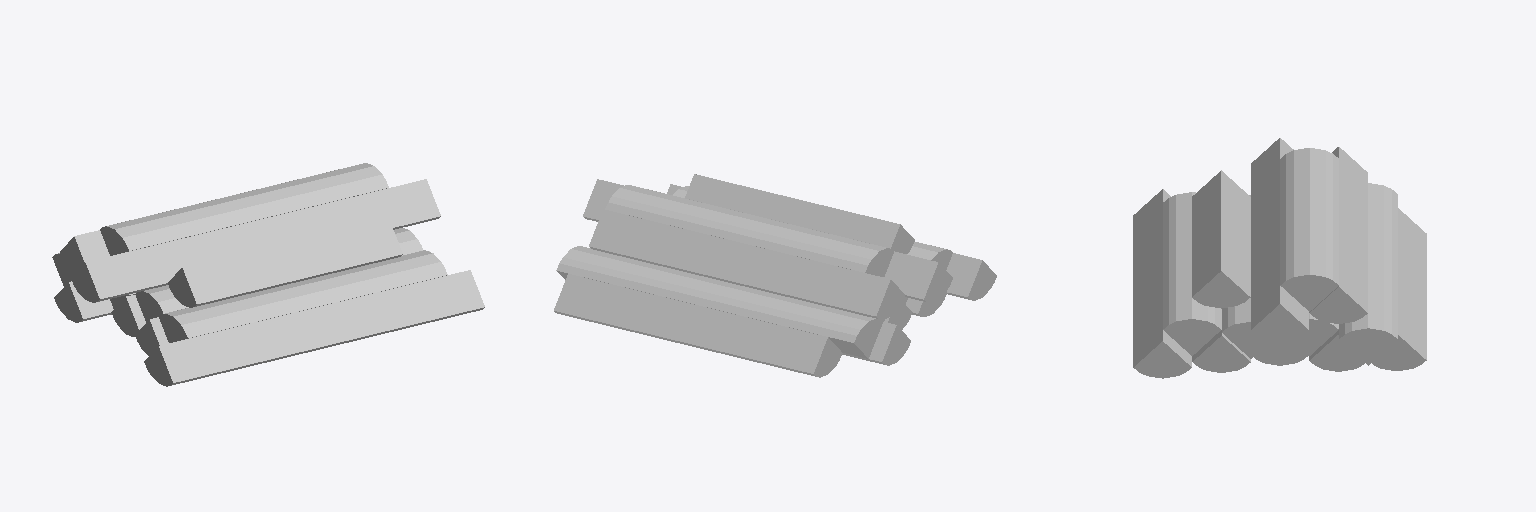
File: Logs.obj
3 renders of one model, left to right at view 1: azimuth 30°, elevation 25°; view 2: azimuth 150°, elevation 25°; view 3: azimuth 270°, elevation 25°, orthographic.
Visible parts, largest first — view 1: Logs, Log_Singal; view 2: Logs, Log_Singal; view 3: Logs, Log_Singal.
Boxes of the visible parts, box(x1,y1,x2,y2) form: Logs: box(52, 179, 484, 386); Log_Singal: box(100, 163, 388, 255); Logs: box(554, 174, 996, 377); Log_Singal: box(605, 185, 893, 276); Logs: box(1133, 138, 1426, 378); Log_Singal: box(1280, 148, 1338, 311).
Bounding box in the file's own units: 1.5 × 0.3901 × 1.11.